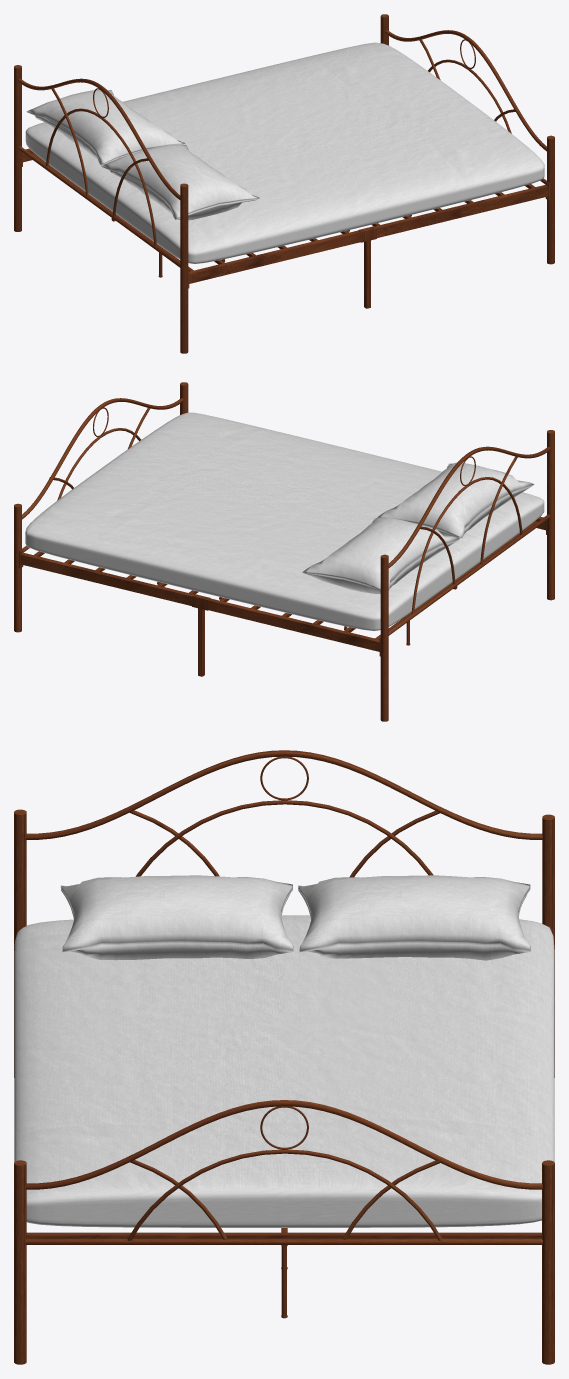
File: Bed_Correct4.glb
3 renders of one model, top to bottom at view 1: azimuth 30°, elevation 25°; view 2: azimuth 150°, elevation 25°; view 3: azimuth 270°, elevation 25°, orthographic. The views are drawn at different scales.
Parts seen in each view (by area): view 1: pCube22.001, pCube11; view 2: pCube22.001, pCube11; view 3: pCube22.001, pCube11.
Part boxes in pixels (<box>): pCube22.001: <box>25,42,544,263</box>; pCube11: <box>14,14,554,353</box>; pCube22.001: <box>25,412,544,630</box>; pCube11: <box>14,382,554,721</box>; pCube22.001: <box>14,875,554,1227</box>; pCube11: <box>14,750,554,1364</box>.
Size of the model in its own units: 2.04 by 1.07 by 1.61.
2 materials, 2 textured.
